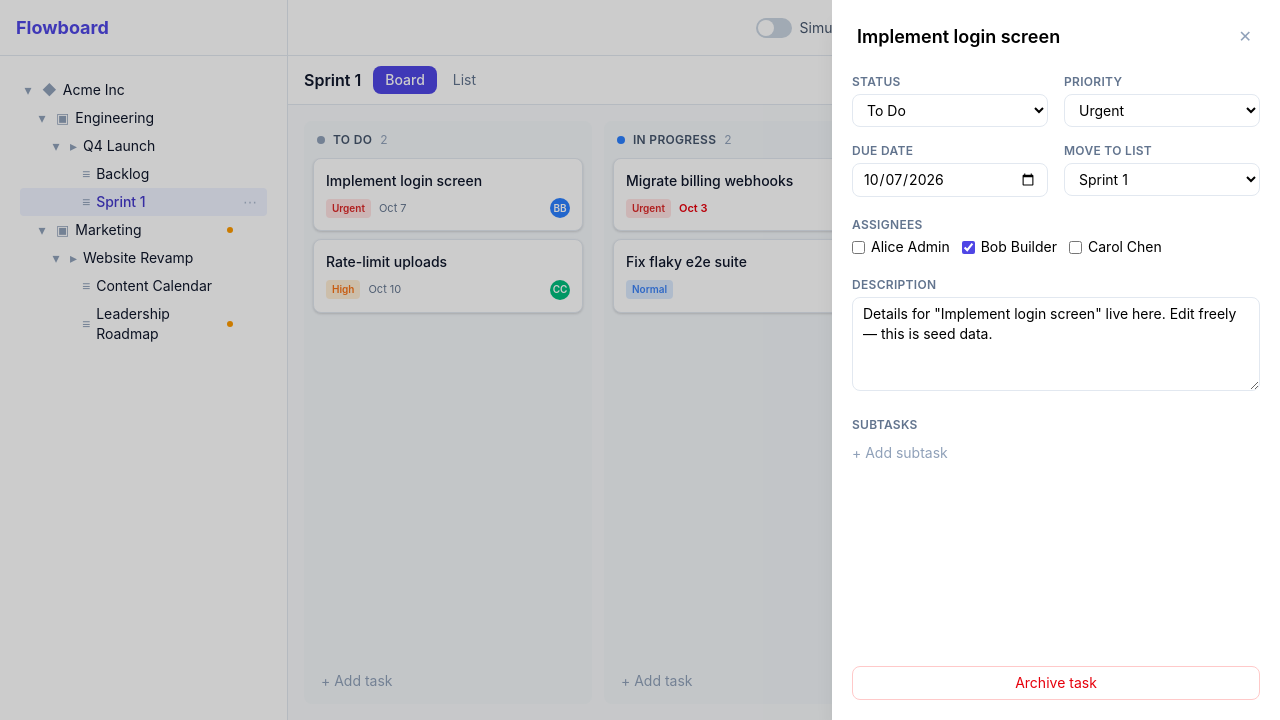
Test: editing the title commits on blur
Replace the text in the field showing "Implement login screen" with "Login screen v2" at (1037, 37), box [852,20,1223,54]
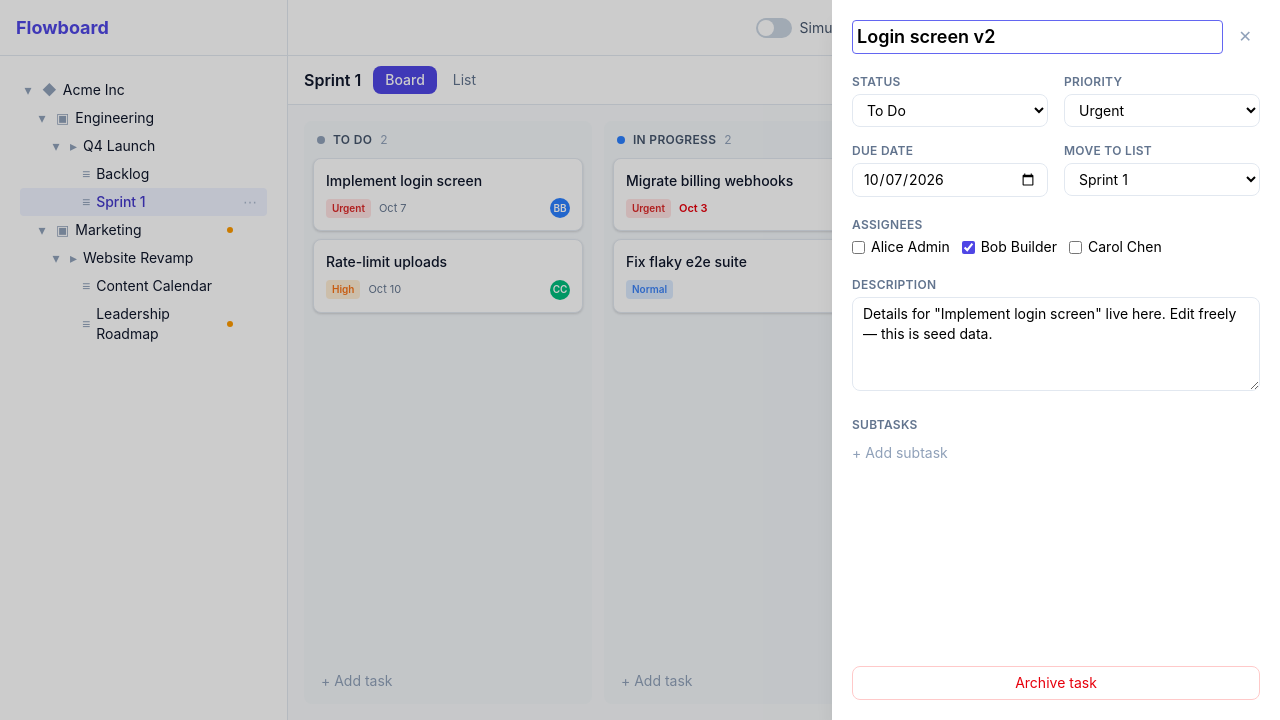
Press Tab
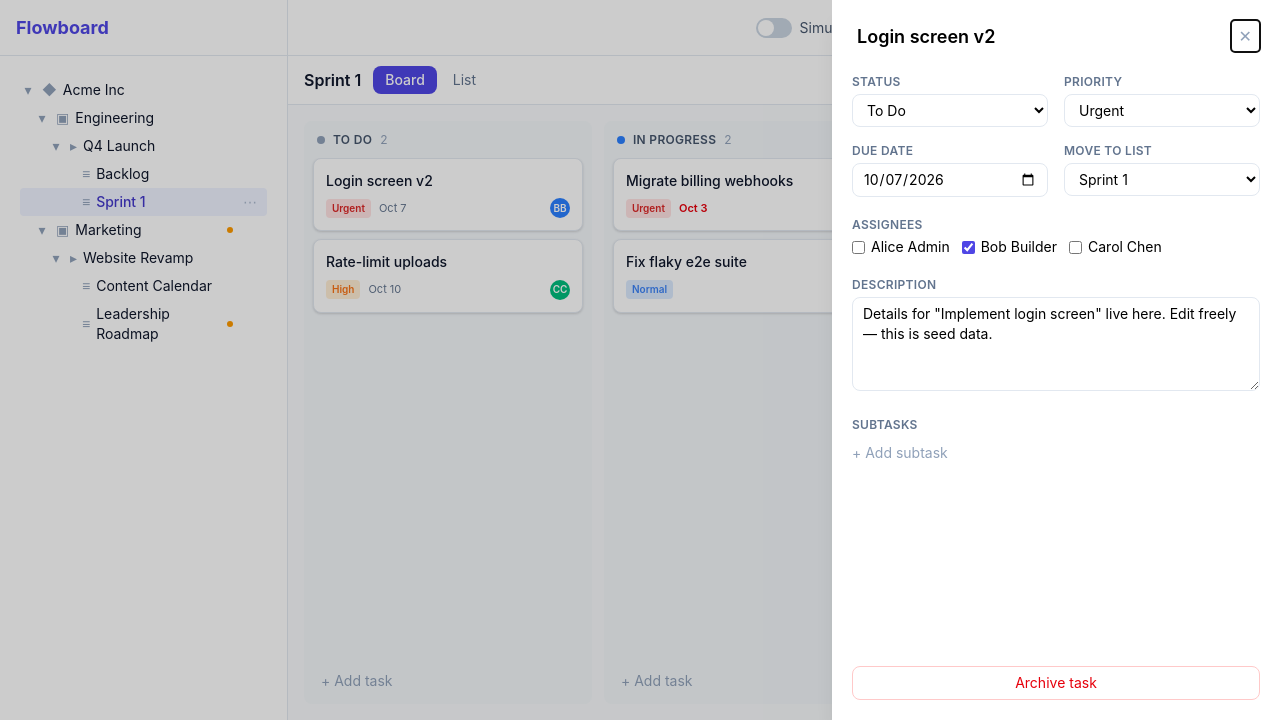
Expected: the text "Login screen v2" is shown, [326,172,433,189]
